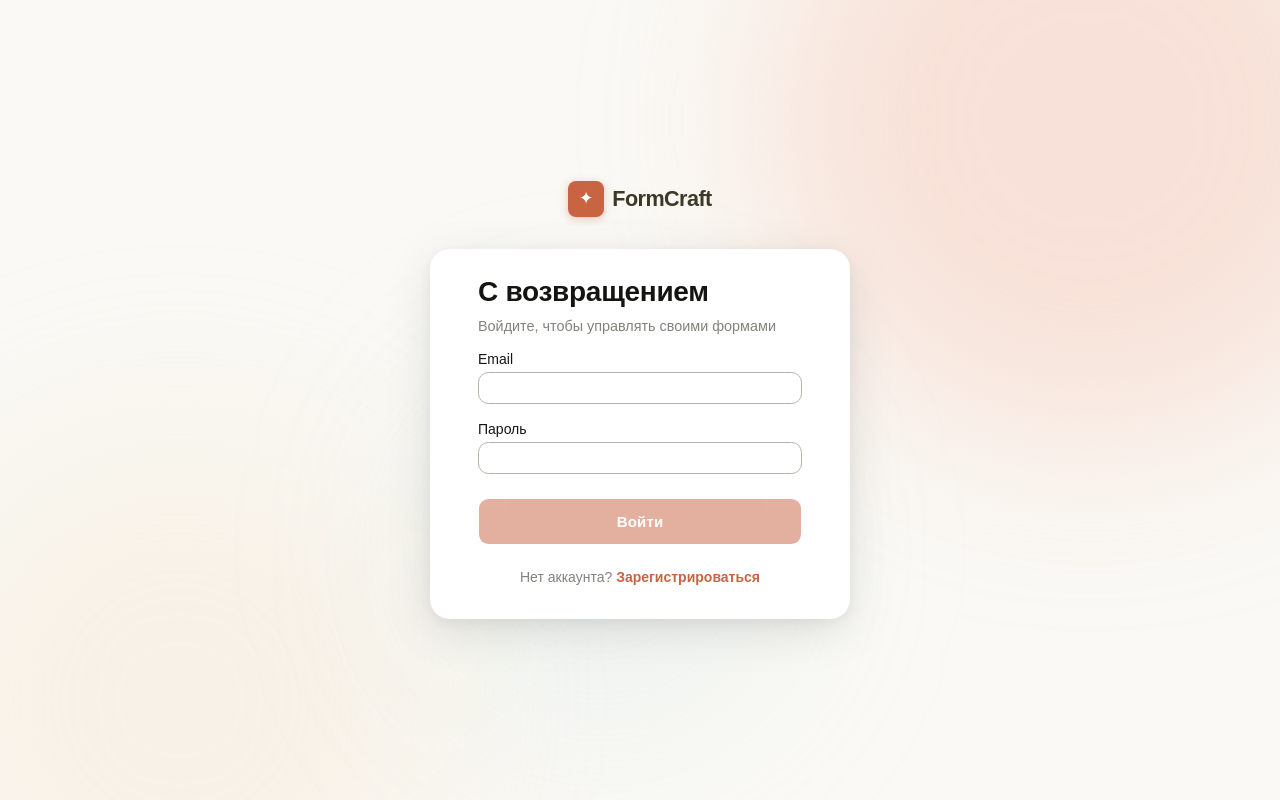
Test: Сквозной сценарий: аутентификация › успешный вход переводит на главную и сохраняет пользователя
The image size is (1280, 800).
Type "ivan@formcraft.dev" into the field labelled "Email".
click(640, 388); type("ivan@formcraft.dev")  # box [478,372,802,404]
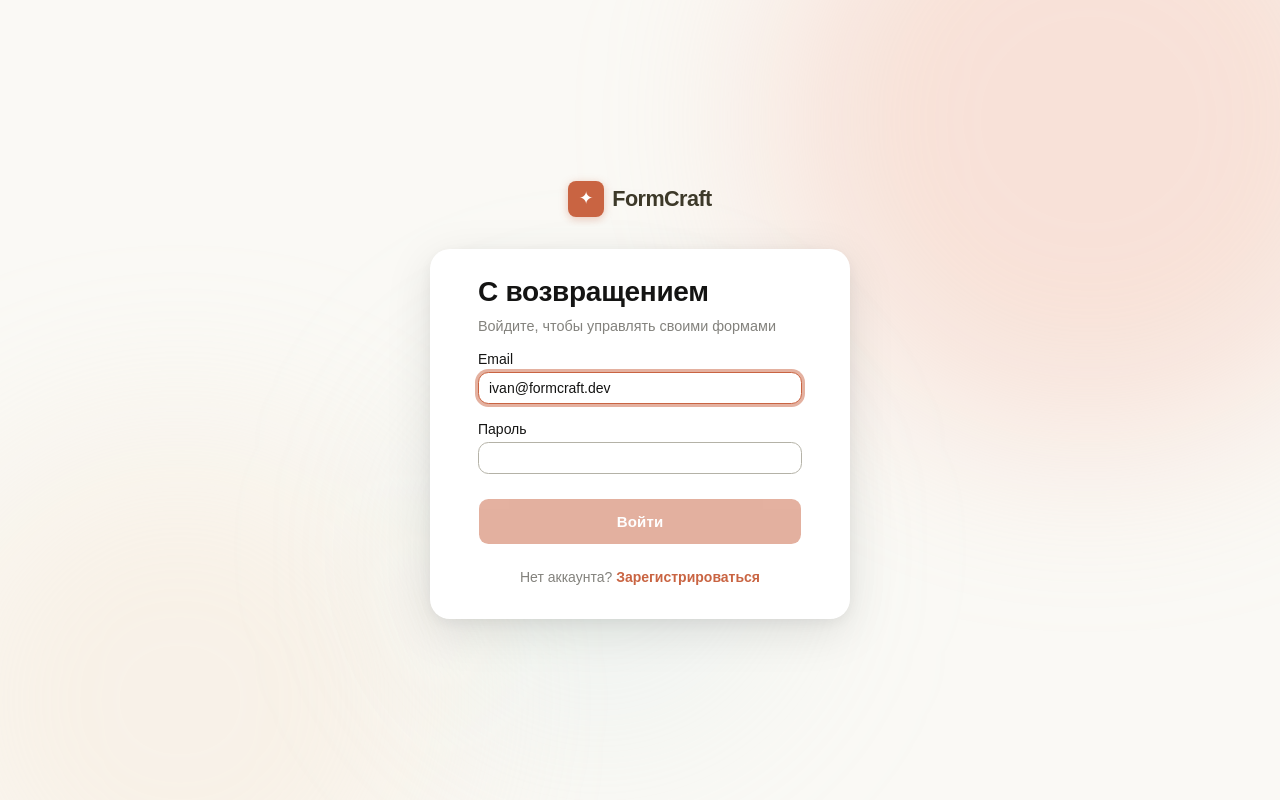
Type "password123" into the password field labelled "Пароль".
click(640, 458); type("password123")  # box [478,442,802,474]
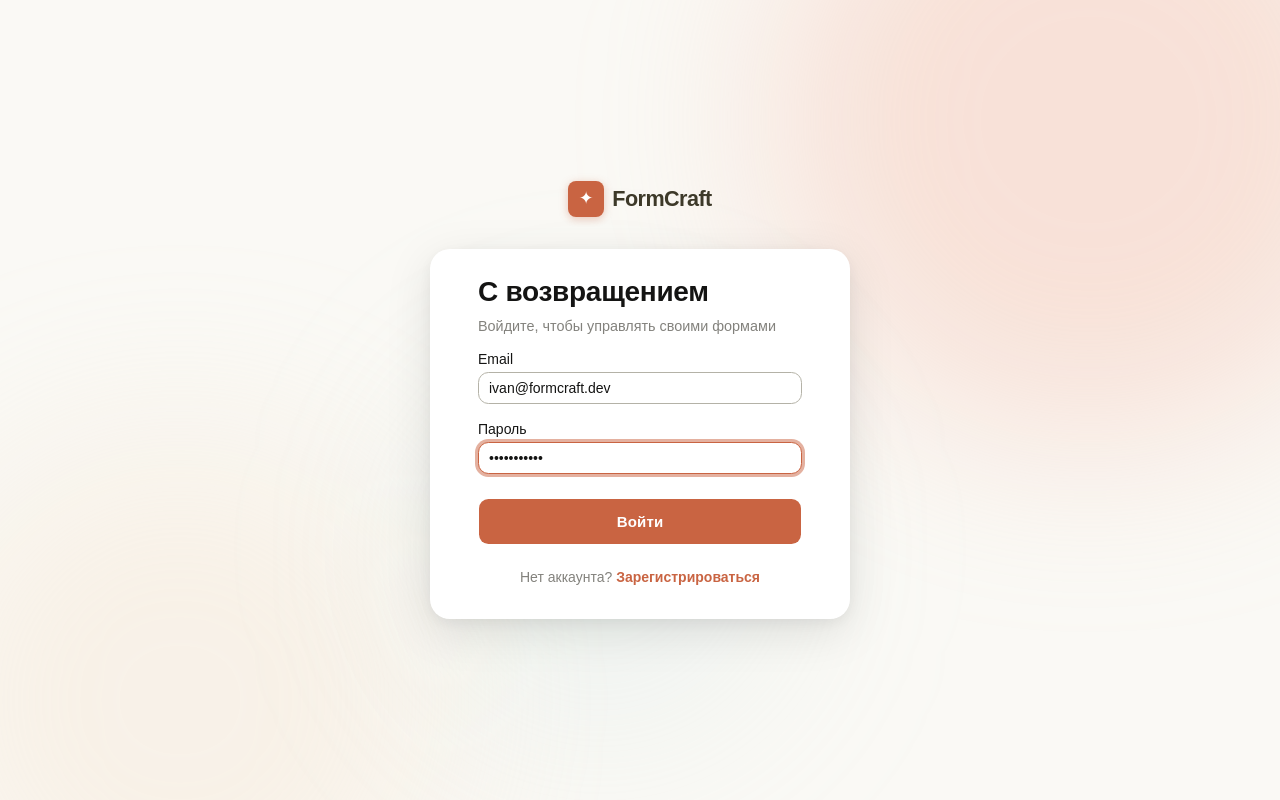
Click the button "Войти".
click(640, 522)  # box [478,498,802,545]
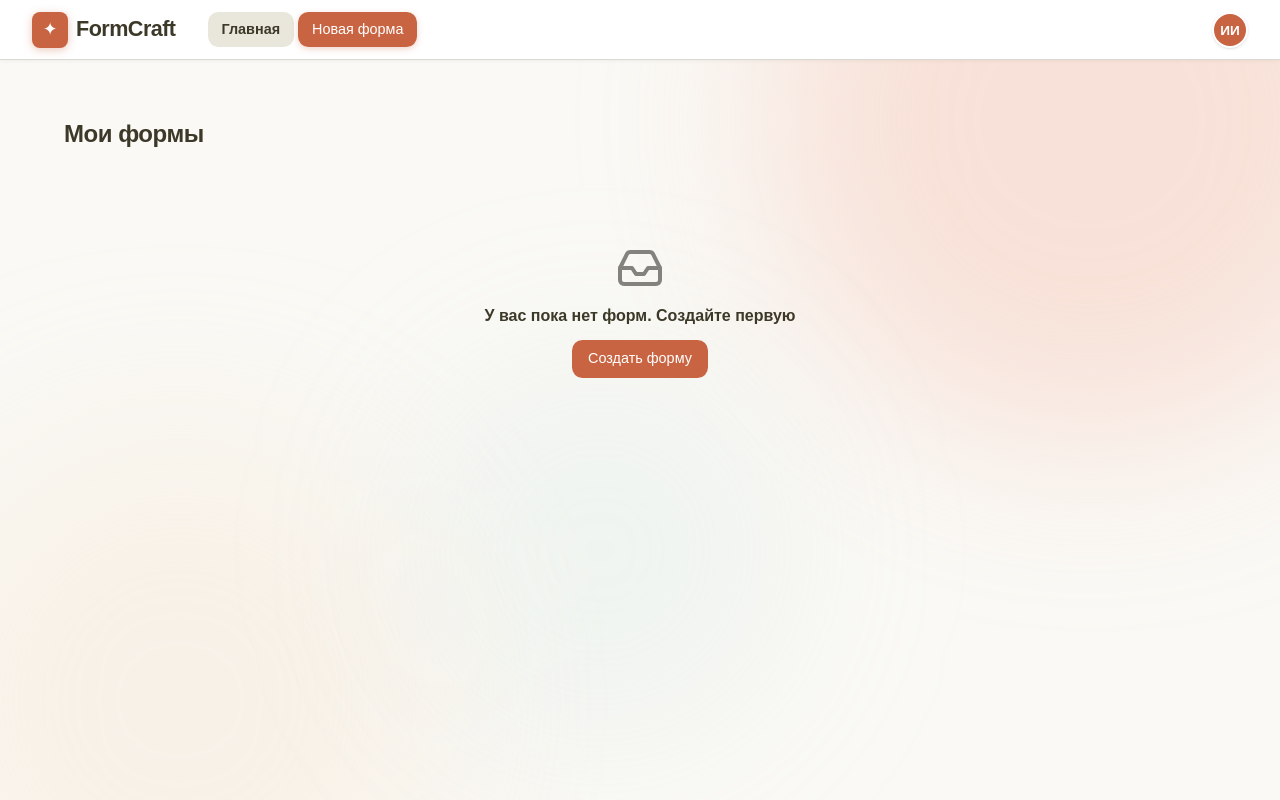
Check: the button with aria-label "Меню пользователя" is shown, box [1212,12,1248,48]
